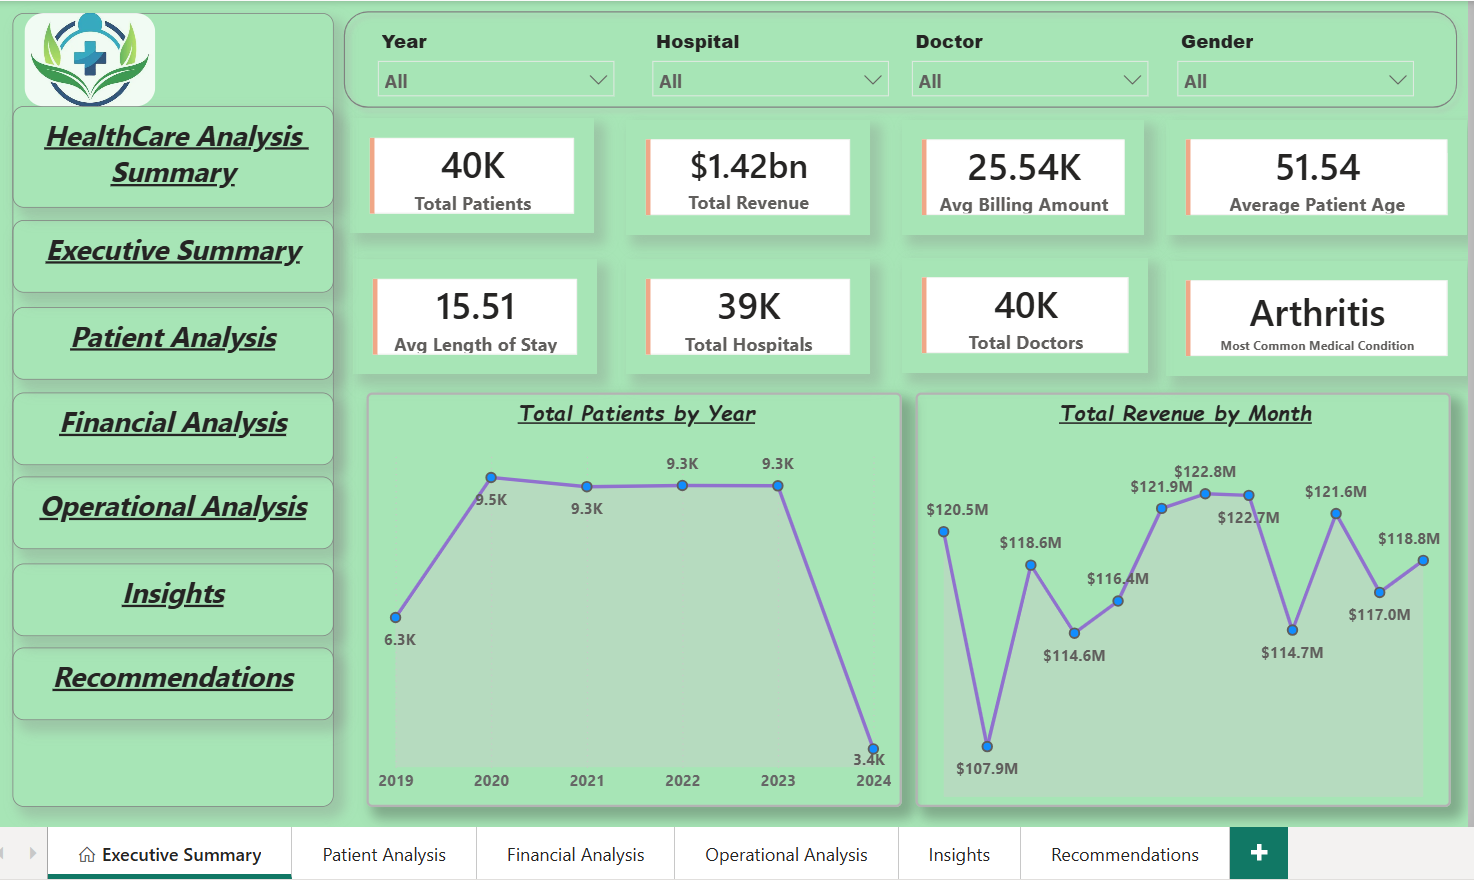

Layout of this report page (visuals, bound fields, positions):
{"tool":"powerbi","page":{"name":"Executive Summary","canvas":[1280,720],"ordinal":0},"visuals":[{"type":"textbox","box":[12,10.5,279.8,691.9],"z":0},{"type":"textbox","box":[12,91.8,279.8,88.7],"z":1000},{"type":"textbox","box":[12,341.4,279.8,63.2],"z":2000},{"type":"textbox","box":[12,191,279.8,63.2],"z":3000},{"type":"textbox","box":[12,266.2,279.8,63.2],"z":4000},{"type":"textbox","box":[12,415.1,279.8,63.2],"z":5000},{"type":"textbox","box":[12,490.3,279.8,63.2],"z":6000},{"type":"textbox","box":[12,564,279.8,63.2],"z":7000},{"type":"image","box":[22.6,10.5,114.3,81.2],"z":8000},{"type":"shape","box":[291.6,0,988.4,102.1],"z":9000},{"type":"slicer","fields":{"Values":["Cleaned_Dataset.Date of Admission.Variation.Date Hierarchy.Year"]},"box":[320.7,19,226,65.6],"z":10000},{"type":"slicer","fields":{"Values":["Cleaned_Dataset.Hospital"]},"box":[559.8,19,226,65.6],"z":11000},{"type":"slicer","fields":{"Values":["Cleaned_Dataset.Gender"]},"box":[1017.6,19,226,65.6],"z":12000},{"type":"slicer","fields":{"Values":["Cleaned_Dataset.Doctor"]},"box":[785.8,19,226,65.6],"z":13000},{"type":"cardVisual","fields":{"Data":["Measure.Total Patients"]},"box":[306.2,102.1,212.8,100.6],"z":14000},{"type":"cardVisual","fields":{"Data":["Measure.Total Revenue"]},"box":[546.7,103.5,212.8,100.6],"z":15000},{"type":"cardVisual","fields":{"Data":["Measure.Average Billing Amount"]},"box":[787.2,103.5,211.4,100.6],"z":16000},{"type":"cardVisual","fields":{"Data":["Measure.Average Patient Age"]},"box":[1017.6,103.5,262.4,100.6],"z":17000},{"type":"cardVisual","fields":{"Data":["Measure.Average Length of Stay"]},"box":[309.1,224.5,212.8,100.6],"z":18000},{"type":"cardVisual","fields":{"Data":["Measure.Total Hospitals"]},"box":[546.7,224.5,212.8,100.6],"z":19000},{"type":"cardVisual","fields":{"Data":["Measure.Total Doctors"]},"box":[787.2,223.1,214.3,100.6],"z":20000},{"type":"cardVisual","fields":{"Data":["Measure.Most Common Medical Condition"]},"box":[1017.6,226,262.4,100.6],"z":21000},{"type":"lineChart","fields":{"Y":["Measure.Total Patients"],"Category":["Cleaned_Dataset.Date of Admission.Variation.Date Hierarchy.Year"]},"box":[320.7,341.1,466.5,361.5],"z":22000},{"type":"lineChart","fields":{"Y":["Measure.Total Revenue"],"Category":["Cleaned_Dataset.Date of Admission.Variation.Date Hierarchy.Month"]},"box":[798.9,341.1,466.5,361.5],"z":23000},{"type":"actionButton","box":[11.7,191,279.9,62.7],"z":24000},{"type":"actionButton","box":[11.7,266.8,279.9,62.7],"z":25000},{"type":"actionButton","box":[11.7,341.1,279.9,62.7],"z":26000},{"type":"actionButton","box":[11.7,414,279.9,62.7],"z":27000},{"type":"actionButton","box":[11.7,489.8,279.9,62.7],"z":28000},{"type":"actionButton","box":[11.7,564.2,279.9,62.7],"z":29000}]}

Visuals, with their boxes on the page's 1280x720 design canvas (x1, y1, x2, y2). These are canvas units, not pixel positions in the 1474x880 screenshot, which may show the page scaled, cropped or inside an application window:
textbox: <region>12, 10, 292, 702</region>
textbox: <region>12, 92, 292, 180</region>
textbox: <region>12, 341, 292, 405</region>
textbox: <region>12, 191, 292, 254</region>
textbox: <region>12, 266, 292, 329</region>
textbox: <region>12, 415, 292, 478</region>
textbox: <region>12, 490, 292, 554</region>
textbox: <region>12, 564, 292, 627</region>
image: <region>23, 10, 137, 92</region>
shape: <region>292, 0, 1280, 102</region>
slicer - Cleaned_Dataset.Date of Admission.Variation.Date Hierarchy.Year: <region>321, 19, 547, 85</region>
slicer - Cleaned_Dataset.Hospital: <region>560, 19, 786, 85</region>
slicer - Cleaned_Dataset.Gender: <region>1018, 19, 1244, 85</region>
slicer - Cleaned_Dataset.Doctor: <region>786, 19, 1012, 85</region>
cardVisual - Measure.Total Patients: <region>306, 102, 519, 203</region>
cardVisual - Measure.Total Revenue: <region>547, 104, 760, 204</region>
cardVisual - Measure.Average Billing Amount: <region>787, 104, 999, 204</region>
cardVisual - Measure.Average Patient Age: <region>1018, 104, 1280, 204</region>
cardVisual - Measure.Average Length of Stay: <region>309, 224, 522, 325</region>
cardVisual - Measure.Total Hospitals: <region>547, 224, 760, 325</region>
cardVisual - Measure.Total Doctors: <region>787, 223, 1002, 324</region>
cardVisual - Measure.Most Common Medical Condition: <region>1018, 226, 1280, 327</region>
lineChart - Measure.Total Patients x Cleaned_Dataset.Date of Admission.Variation.Date Hierarchy.Year: <region>321, 341, 787, 703</region>
lineChart - Measure.Total Revenue x Cleaned_Dataset.Date of Admission.Variation.Date Hierarchy.Month: <region>799, 341, 1265, 703</region>
actionButton: <region>12, 191, 292, 254</region>
actionButton: <region>12, 267, 292, 330</region>
actionButton: <region>12, 341, 292, 404</region>
actionButton: <region>12, 414, 292, 477</region>
actionButton: <region>12, 490, 292, 552</region>
actionButton: <region>12, 564, 292, 627</region>
